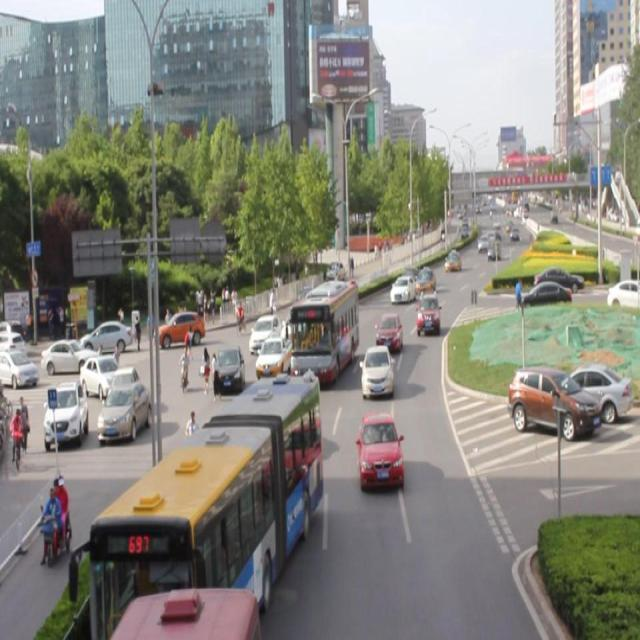car: (357, 412, 402, 489), (253, 363, 297, 423), (211, 337, 245, 392), (360, 342, 392, 398), (280, 303, 313, 346), (255, 333, 291, 372), (248, 308, 281, 350), (375, 311, 401, 349), (415, 289, 438, 330), (389, 273, 414, 301), (413, 266, 434, 295)
van: (85, 379, 320, 628), (113, 585, 260, 640), (291, 277, 357, 377)
